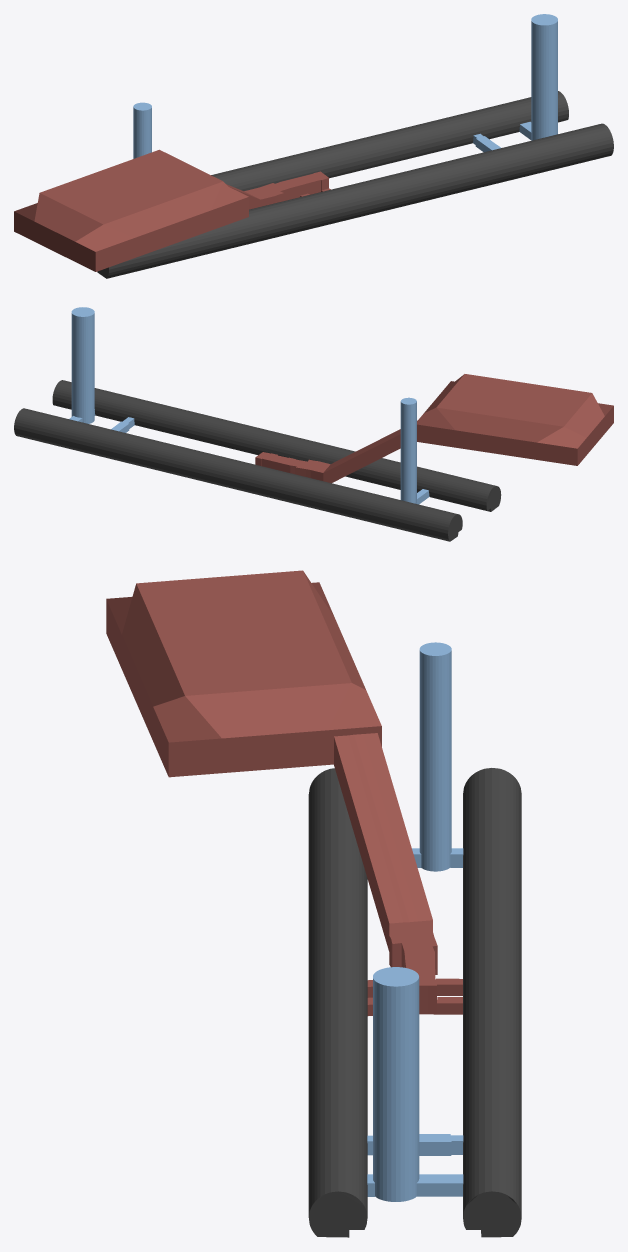
3 renders of one model, top to bottom at view 1: azimuth 30°, elevation 25°; view 2: azimuth 150°, elevation 25°; view 3: azimuth 270°, elevation 25°, orthographic. The views are drawn at different scales.
Parts seen in each view (by area): view 1: TicketHall, PLT1, PLT2, 16, Concourse, 24; view 2: PLT2, TicketHall, PLT1, 16, 24, ESC, Concourse; view 3: TicketHall, PLT2, PLT1, 16, ESC, 24, Concourse, 33.
Boxes of the visible parts, box(x1,y1,x2,y2) form: TicketHall: box(14, 149, 248, 271); PLT1: box(97, 123, 613, 278); PLT2: box(211, 91, 568, 190); 16: box(519, 14, 557, 140); Concourse: box(244, 171, 328, 206); 24: box(133, 102, 151, 158); PLT2: box(14, 408, 462, 541); TicketHall: box(417, 374, 613, 465); PLT1: box(52, 380, 501, 511); 16: box(69, 307, 95, 423); 24: box(400, 397, 429, 504); ESC: box(323, 420, 417, 483); Concourse: box(255, 452, 330, 480); TicketHall: box(106, 570, 381, 777); PLT2: box(463, 768, 521, 1237); PLT1: box(308, 768, 367, 1237); 16: box(367, 967, 463, 1201); ESC: box(334, 733, 432, 951); 24: box(412, 642, 463, 871); Concourse: box(389, 920, 437, 1014); 33: box(367, 1134, 463, 1155).
Bounding box in the file's own units: 186 × 38.67 × 65.05.
